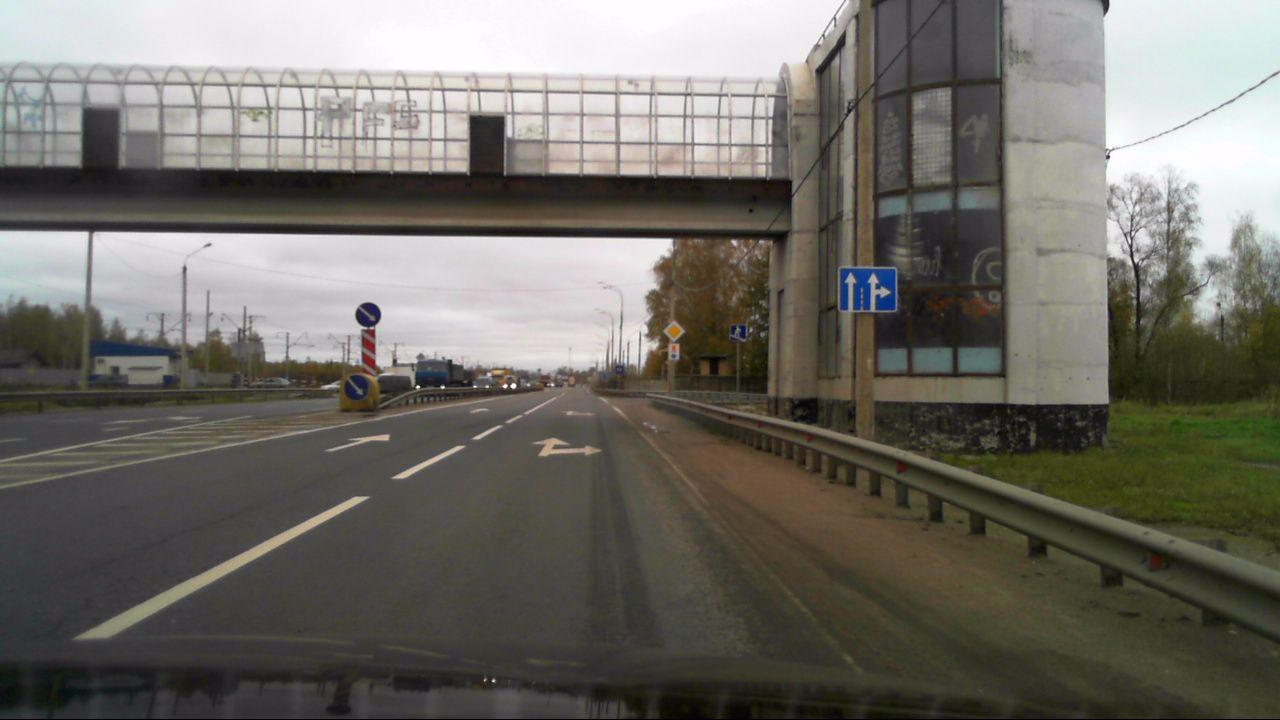2_1: (661, 320, 686, 342)
4_2_1: (353, 300, 382, 327), (344, 373, 369, 401)
4_8_1: (668, 343, 680, 361)
5_15_1: (837, 265, 899, 314)
6_2: (615, 365, 625, 373)
6_7: (729, 324, 746, 342)
8_22_1: (360, 328, 379, 377)
